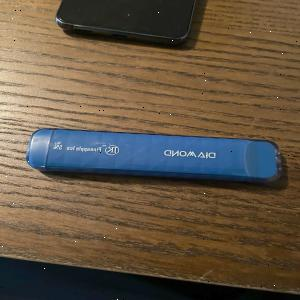Diamond-E-Ciggirate: (28, 125, 283, 187)
